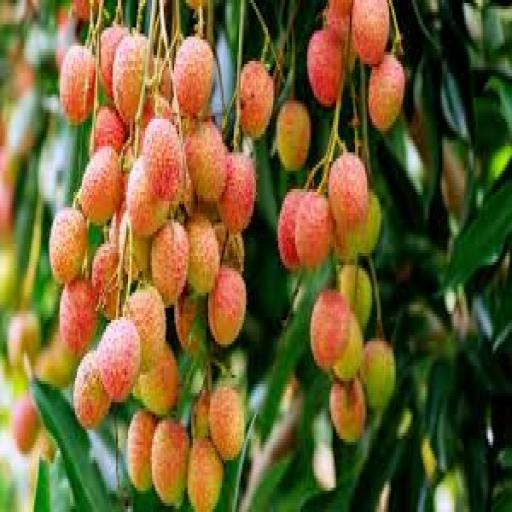lychee: (98, 317, 141, 402), (142, 116, 184, 201), (125, 287, 165, 371), (127, 159, 170, 237), (311, 290, 351, 371), (185, 122, 226, 201), (81, 147, 122, 225), (151, 421, 189, 505), (151, 220, 189, 304), (175, 37, 215, 115), (113, 34, 148, 121), (137, 345, 179, 417), (328, 153, 368, 228), (219, 153, 255, 234), (209, 266, 245, 347), (296, 192, 334, 268), (74, 351, 110, 429), (308, 28, 344, 106), (50, 208, 87, 283), (60, 281, 97, 356), (239, 61, 274, 140), (60, 46, 95, 124), (187, 214, 220, 295), (369, 55, 404, 131), (209, 388, 245, 460), (188, 439, 223, 511), (352, 0, 389, 67), (361, 339, 395, 411), (127, 412, 157, 490), (277, 189, 305, 271), (277, 101, 310, 170), (330, 378, 366, 441), (91, 241, 119, 319), (338, 266, 372, 329), (118, 214, 150, 280), (99, 25, 127, 100), (333, 314, 363, 380), (7, 311, 40, 368), (12, 394, 39, 454), (357, 192, 382, 255), (94, 107, 126, 155), (175, 293, 199, 356), (192, 391, 211, 438), (72, 0, 98, 21)
